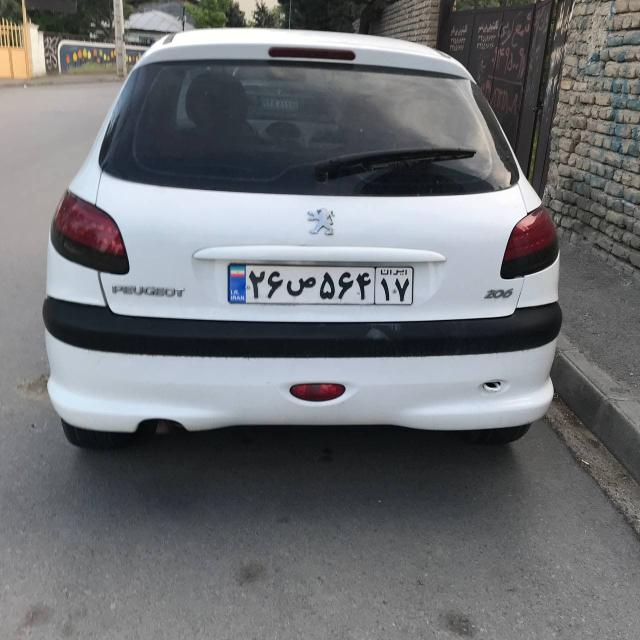Plates: (228, 264, 413, 306)
